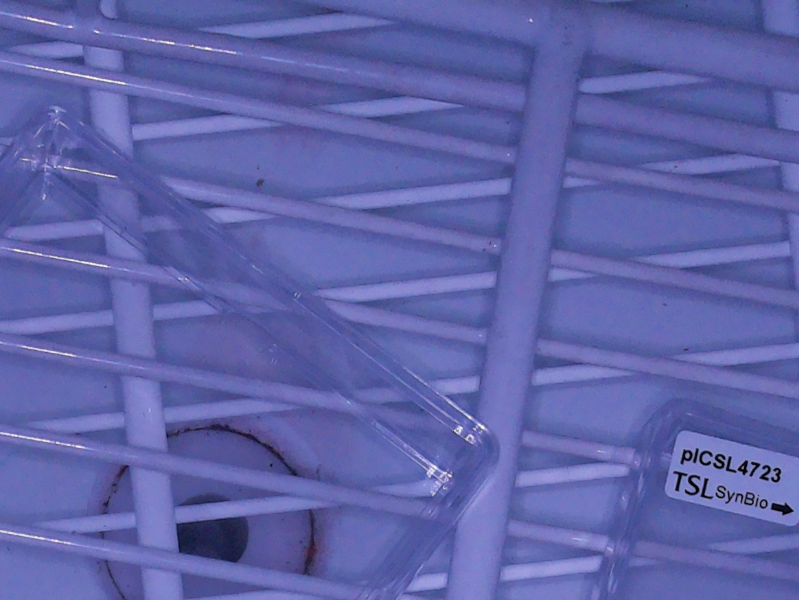plate: (1, 98, 501, 600), (592, 392, 799, 600)
